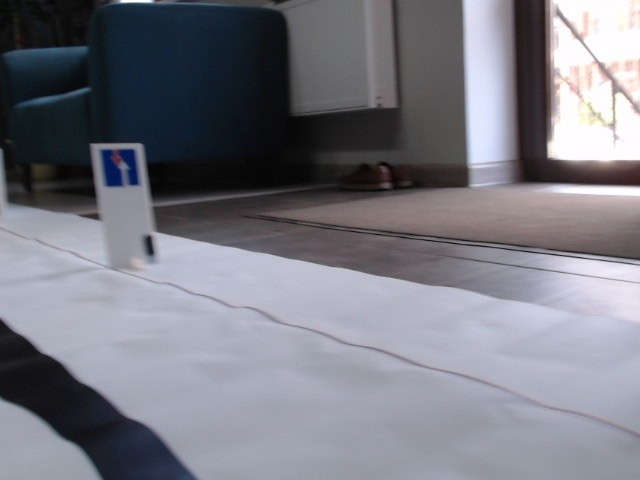priority_movement: (100, 148, 141, 188)
